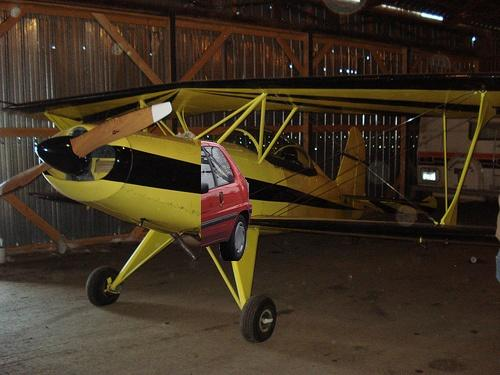tampered: (202, 142, 252, 261)
